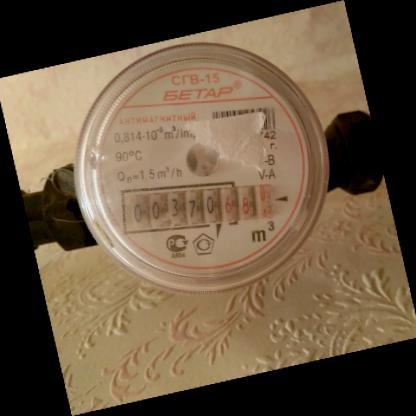digital_screen: (120, 184, 220, 231)
